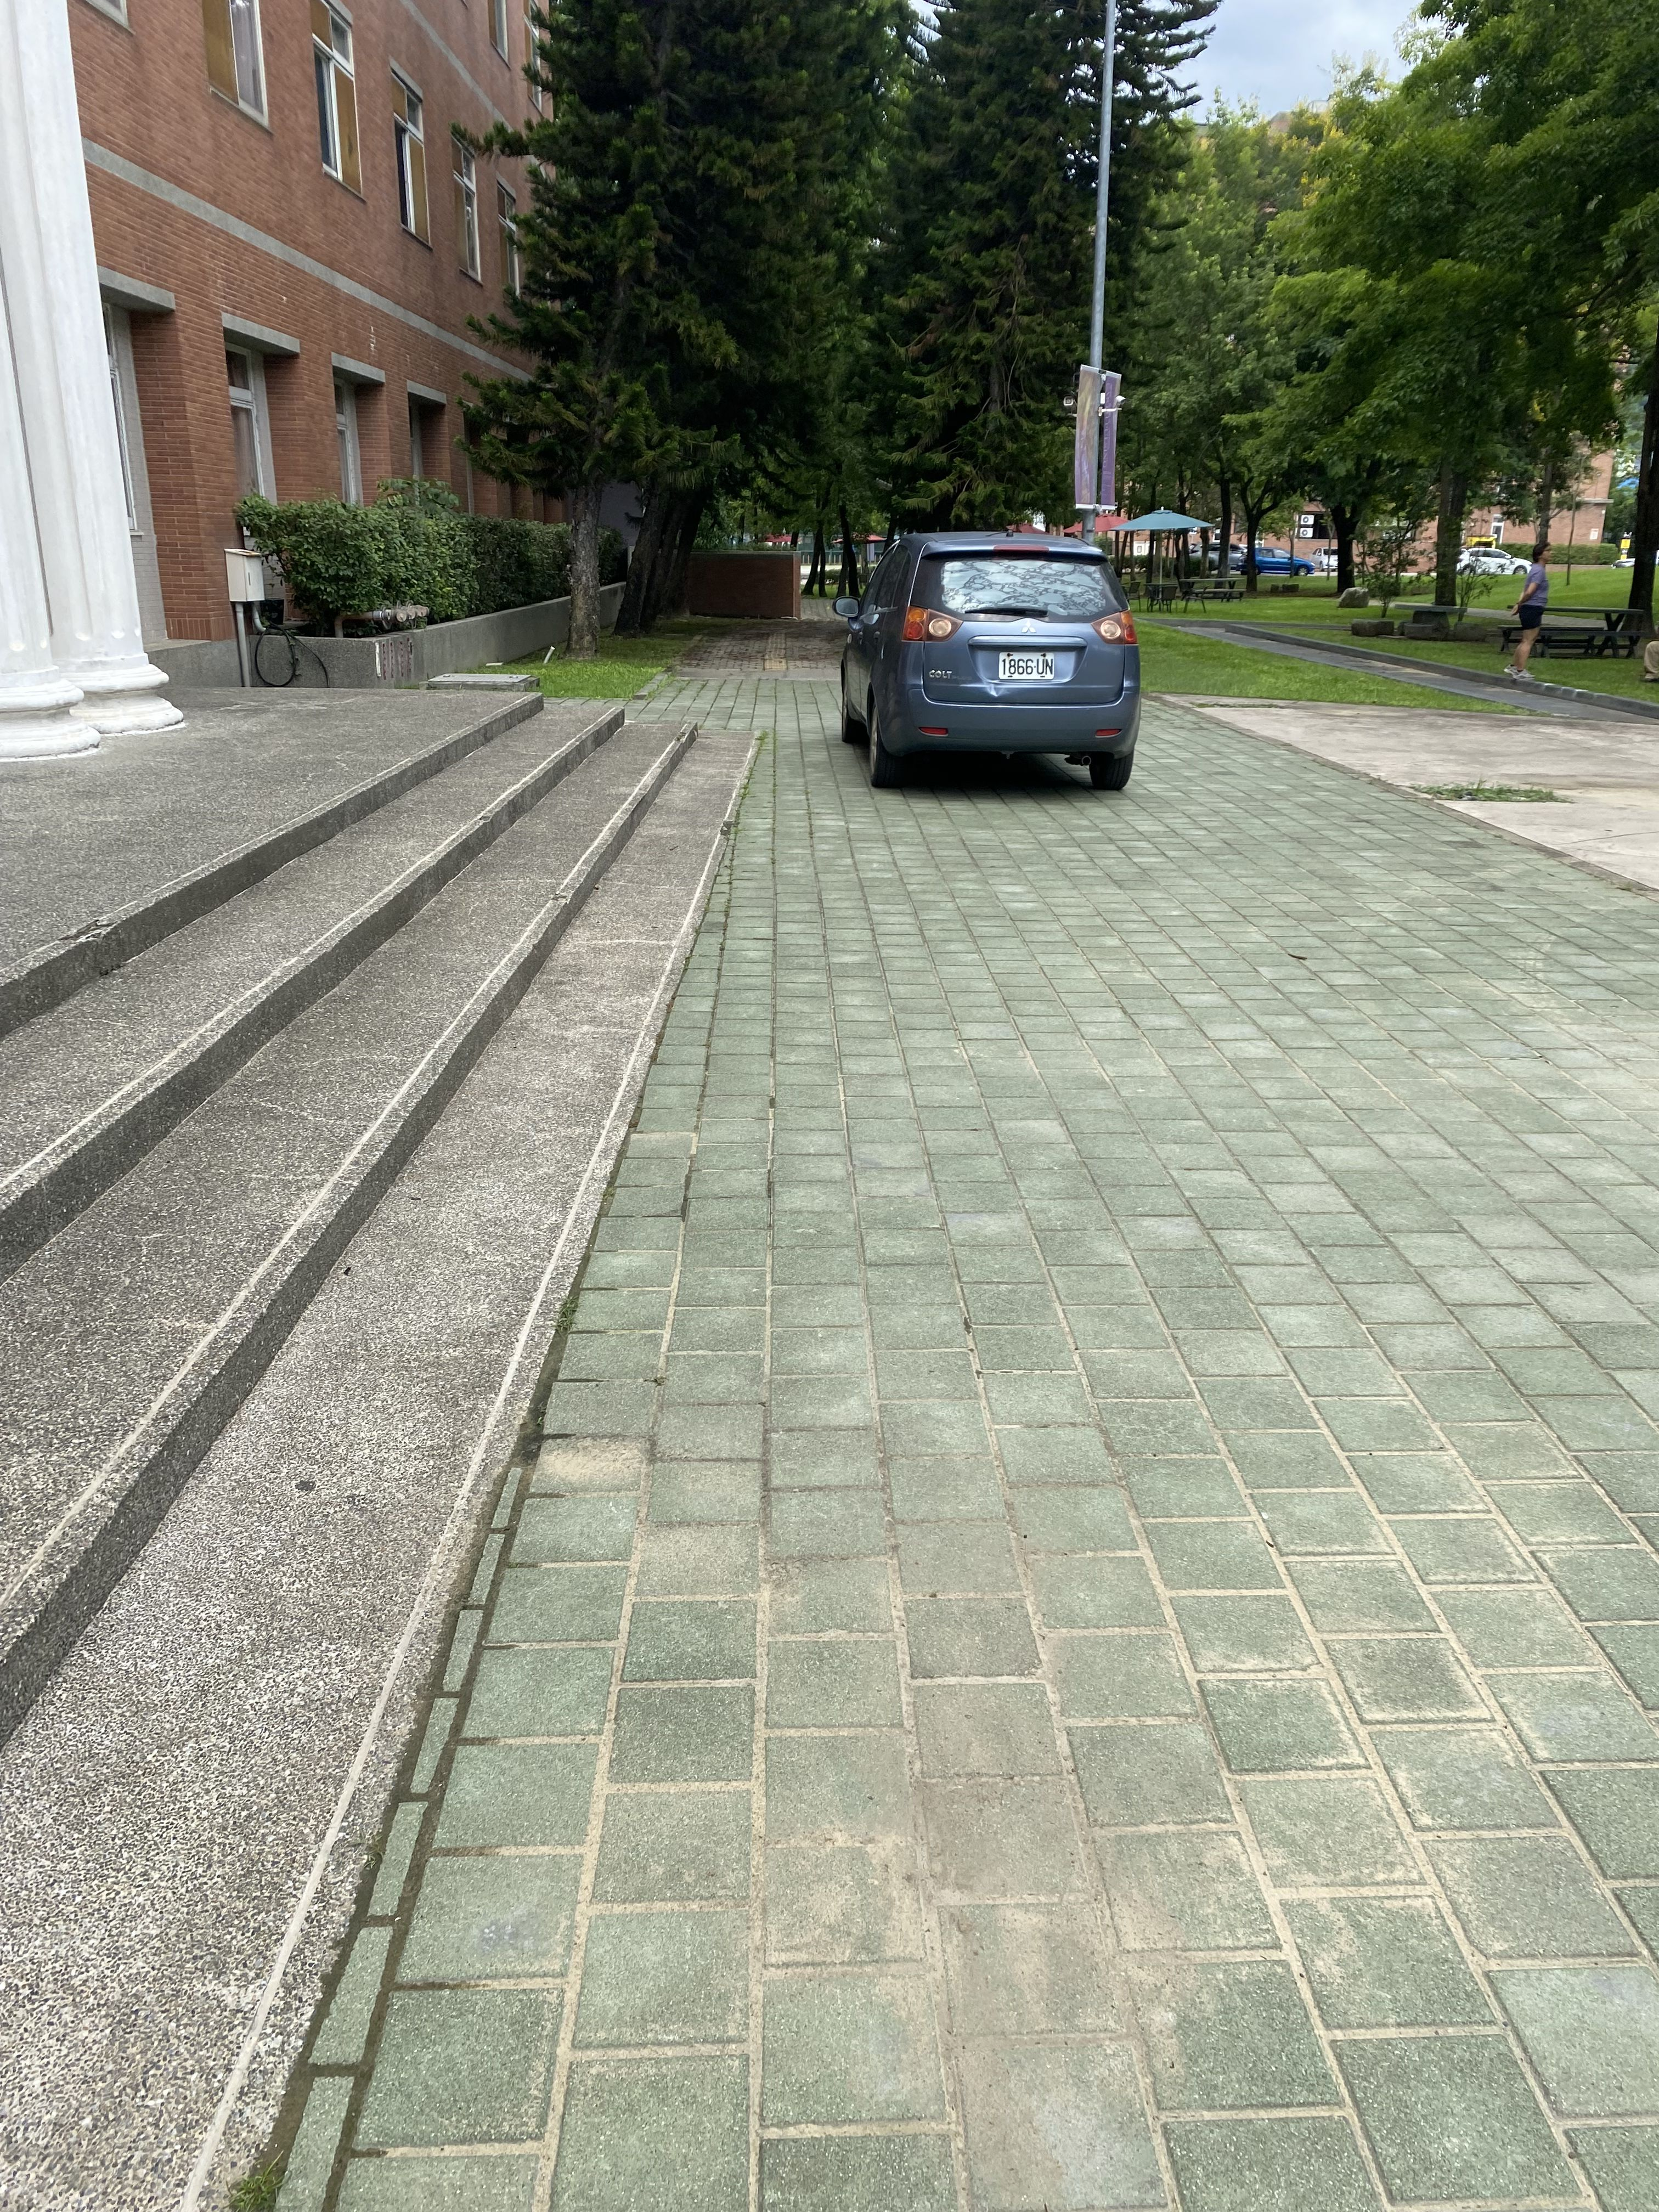sidewalk: (373, 597, 1659, 2210)
